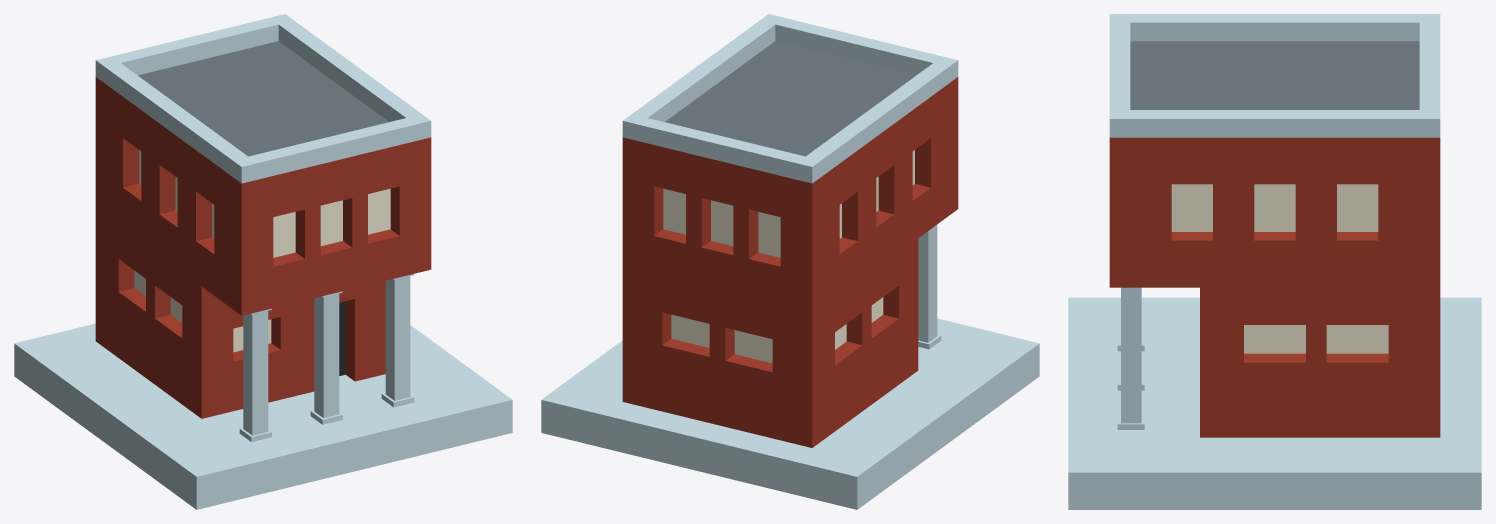
File: Building_7_Base (Red).obj
3 views of the same model, side by side, from view 1: azimuth 30°, elevation 25°; view 2: azimuth 150°, elevation 25°; view 3: azimuth 270°, elevation 25° (orthographic). The views are drawn at different scales.
Parts seen in each view (by area): view 1: Building_7_Base_(Red); view 2: Building_7_Base_(Red); view 3: Building_7_Base_(Red).
Boxes of the visible parts, x1=… form: Building_7_Base_(Red): x1=14, y1=14, x2=512, y2=509; Building_7_Base_(Red): x1=541, y1=14, x2=1039, y2=509; Building_7_Base_(Red): x1=1068, y1=14, x2=1481, y2=509.
Bounding box in the file's own units: 2 × 1.9 × 2.
